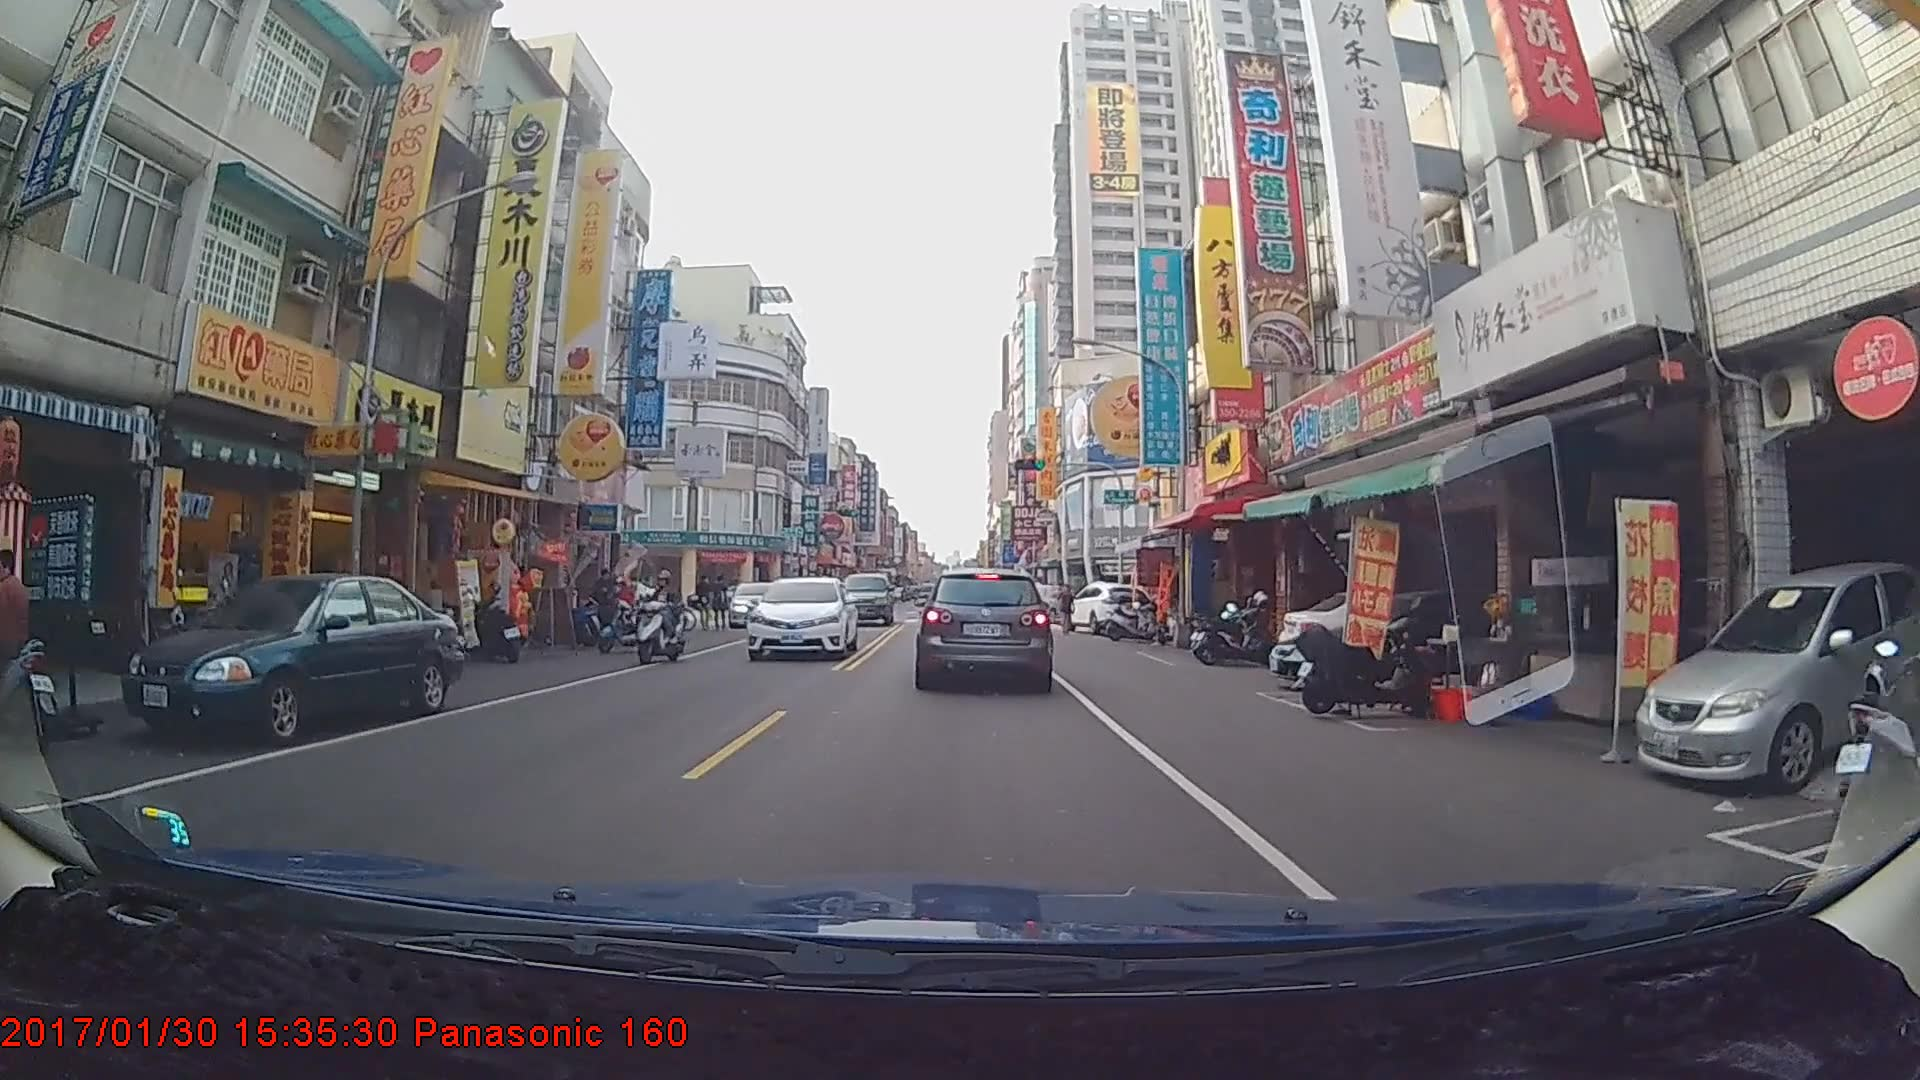pedestrian: (1056, 584, 1077, 637)
rider: (1, 551, 62, 747), (633, 568, 694, 670)
vehicle: (1626, 557, 1918, 796), (118, 569, 460, 746), (918, 567, 1051, 688), (745, 576, 858, 662), (1062, 582, 1158, 638), (835, 573, 895, 629)
